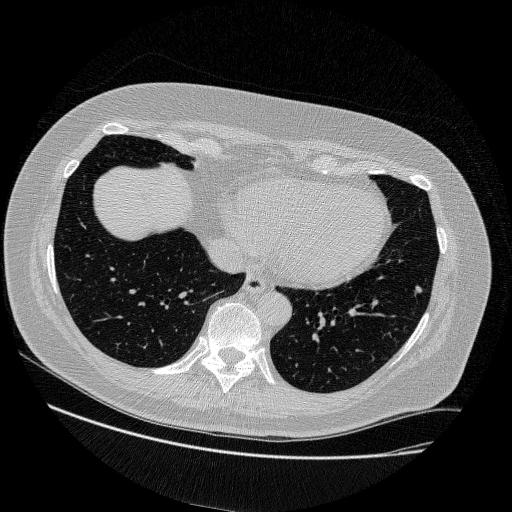nodule: (411, 283, 424, 296)
